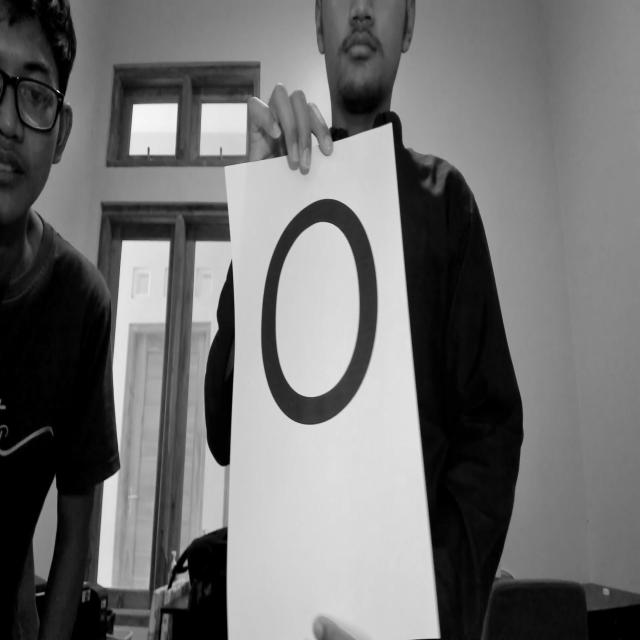o: (245, 191, 393, 434)
